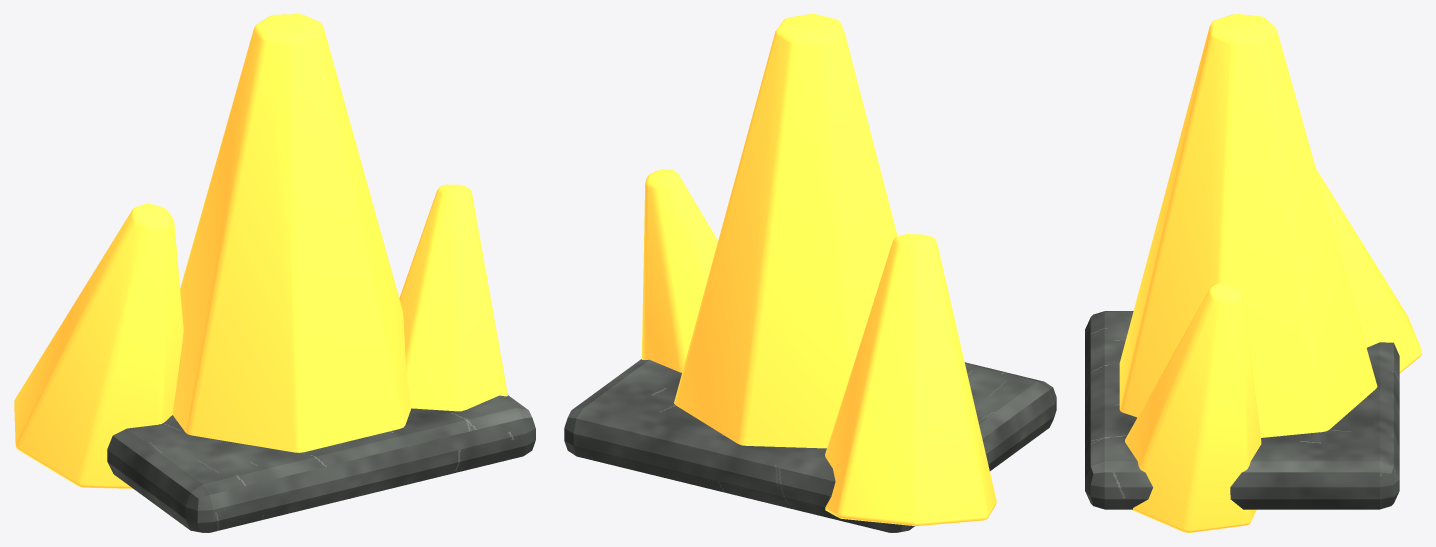
The model's file is resource.glb.
3 renders of one model, left to right at view 1: azimuth 30°, elevation 25°; view 2: azimuth 150°, elevation 25°; view 3: azimuth 270°, elevation 25°, orthographic. The views are drawn at different scales.
Parts seen in each view (by area): view 1: resource_resource_gold, resource_rock_gray; view 2: resource_resource_gold, resource_rock_gray; view 3: resource_resource_gold, resource_rock_gray.
Boxes of the visible parts, box(x1,y1,x2,y2) form: resource_resource_gold: box(14, 14, 507, 488); resource_rock_gray: box(107, 395, 535, 532); resource_resource_gold: box(641, 14, 996, 526); resource_rock_gray: box(564, 359, 1056, 532); resource_resource_gold: box(1119, 14, 1421, 532); resource_rock_gray: box(1085, 311, 1399, 509).
Size of the model in its own units: 1.08 by 1.07 by 0.7711.
Materials: 2 (1 with a texture image).
